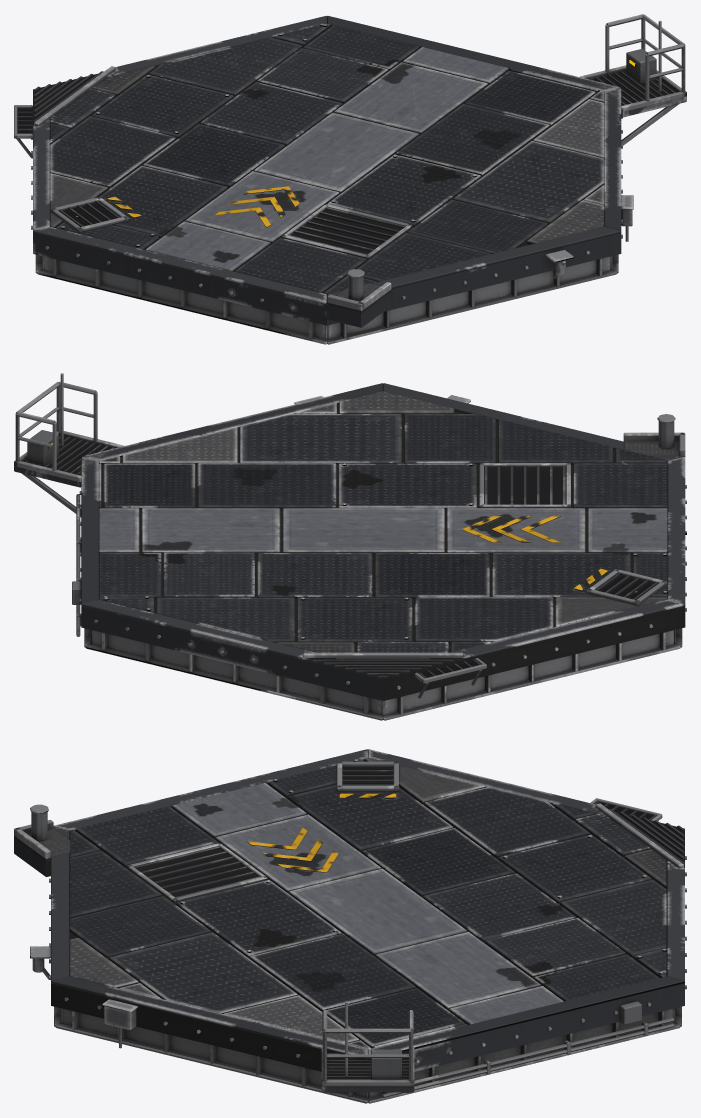
The model's file is nodexeus-set-deck-a.glb.
3 renders of one model, top to bottom at view 1: azimuth 30°, elevation 25°; view 2: azimuth 150°, elevation 25°; view 3: azimuth 270°, elevation 25°, orthographic. The views are drawn at different scales.
Visible parts, largest first — view 1: set-deck-a; view 2: set-deck-a; view 3: set-deck-a.
Part boxes in pixels (bbox=[...]): set-deck-a: bbox=[14, 14, 686, 344]; set-deck-a: bbox=[14, 373, 686, 720]; set-deck-a: bbox=[14, 749, 686, 1103].
Bounding box in the file's own units: 12.78 × 2.15 × 10.92.
Materials: 1 (1 with a texture image).
